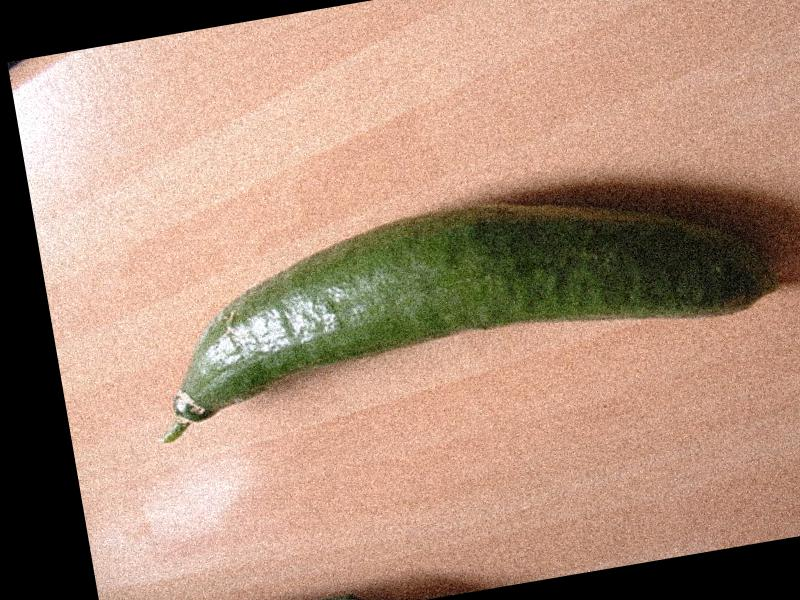Cucumber: (130, 153, 789, 442)
